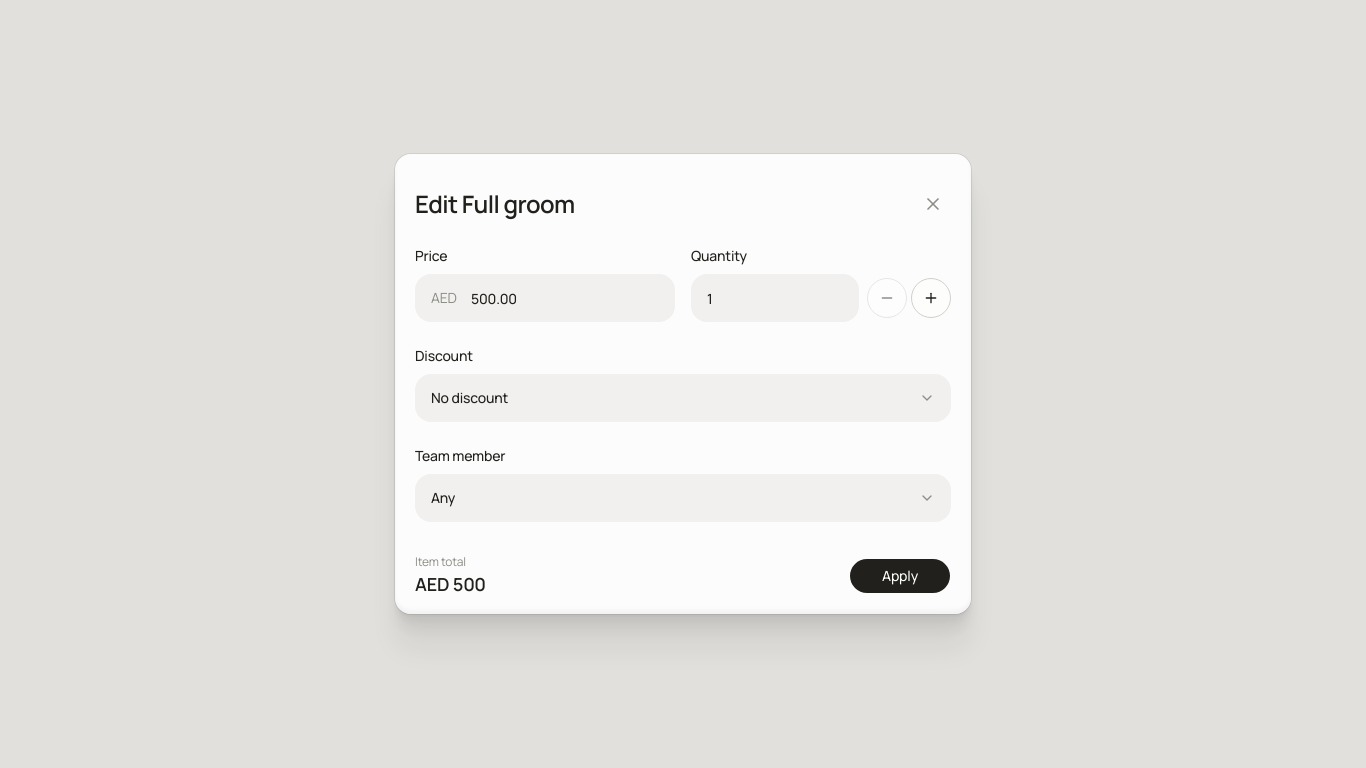
Scenario: one promotion per line, as the built till does › locks the select once one is picked, and the x takes it off
Click the dropdown labelled "discount". click: (470, 398)
box: x1=415 y1=374 x2=951 y2=422
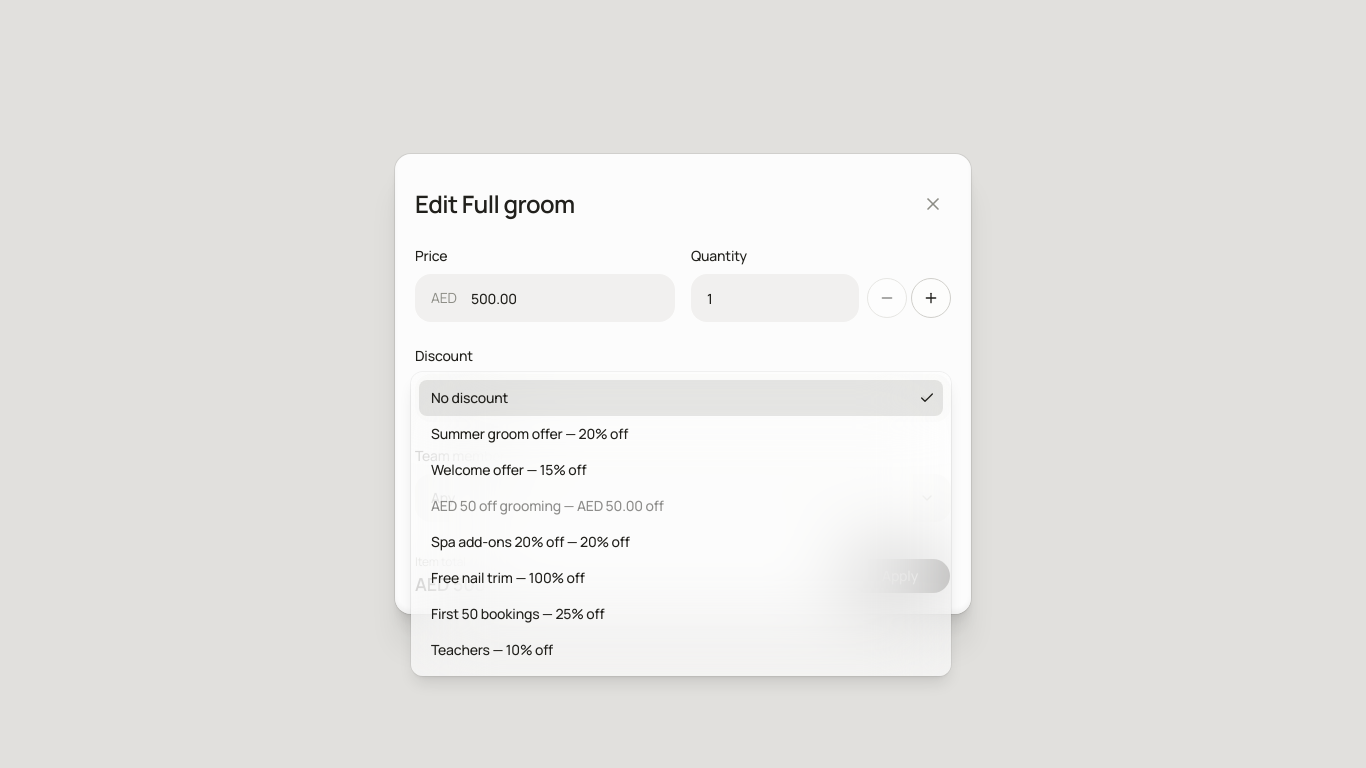
Click the option "Summer groom offer — 20% off". click: (530, 434)
box: x1=431 y1=424 x2=628 y2=443
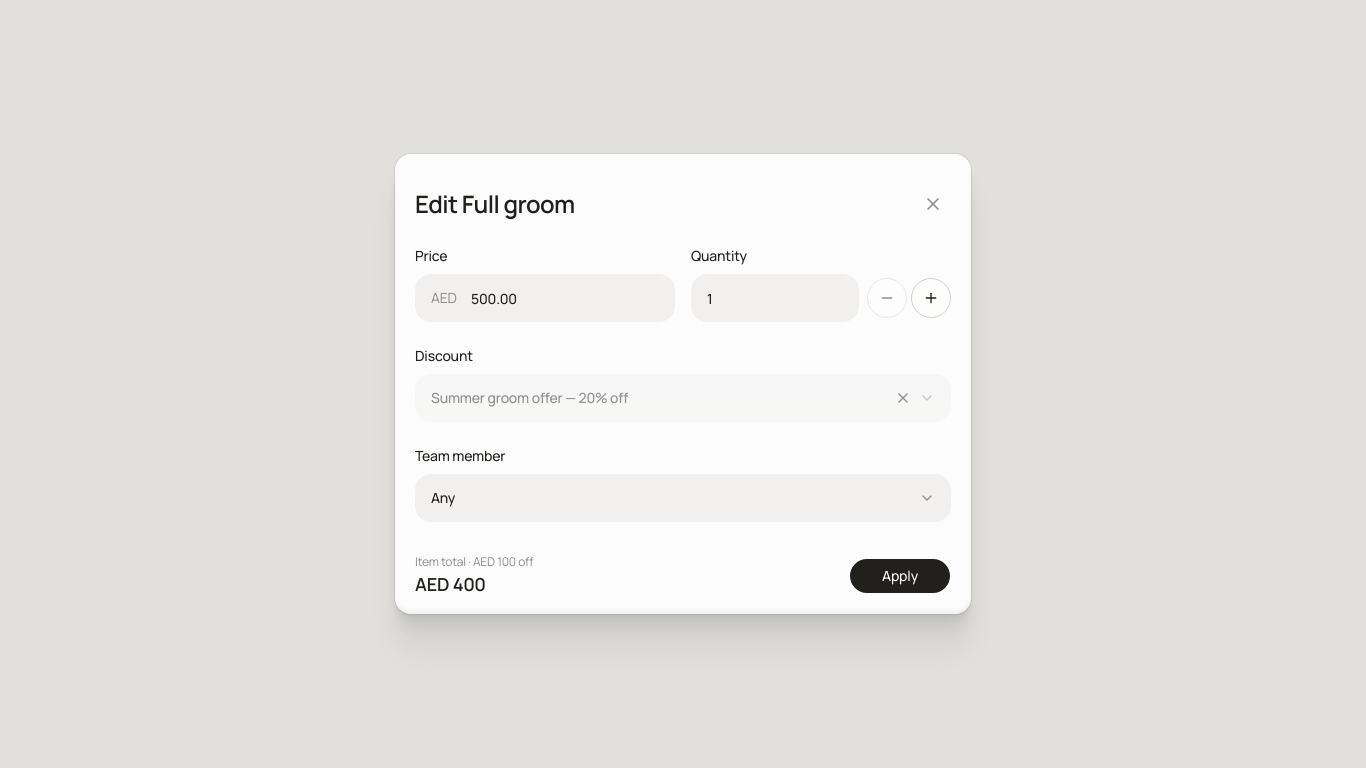
Now the dropdown named "Discount" is disabled, box x1=415 y1=374 x2=951 y2=422
Click the button named "Remove discount". click: (903, 398)
box: x1=891 y1=386 x2=915 y2=410
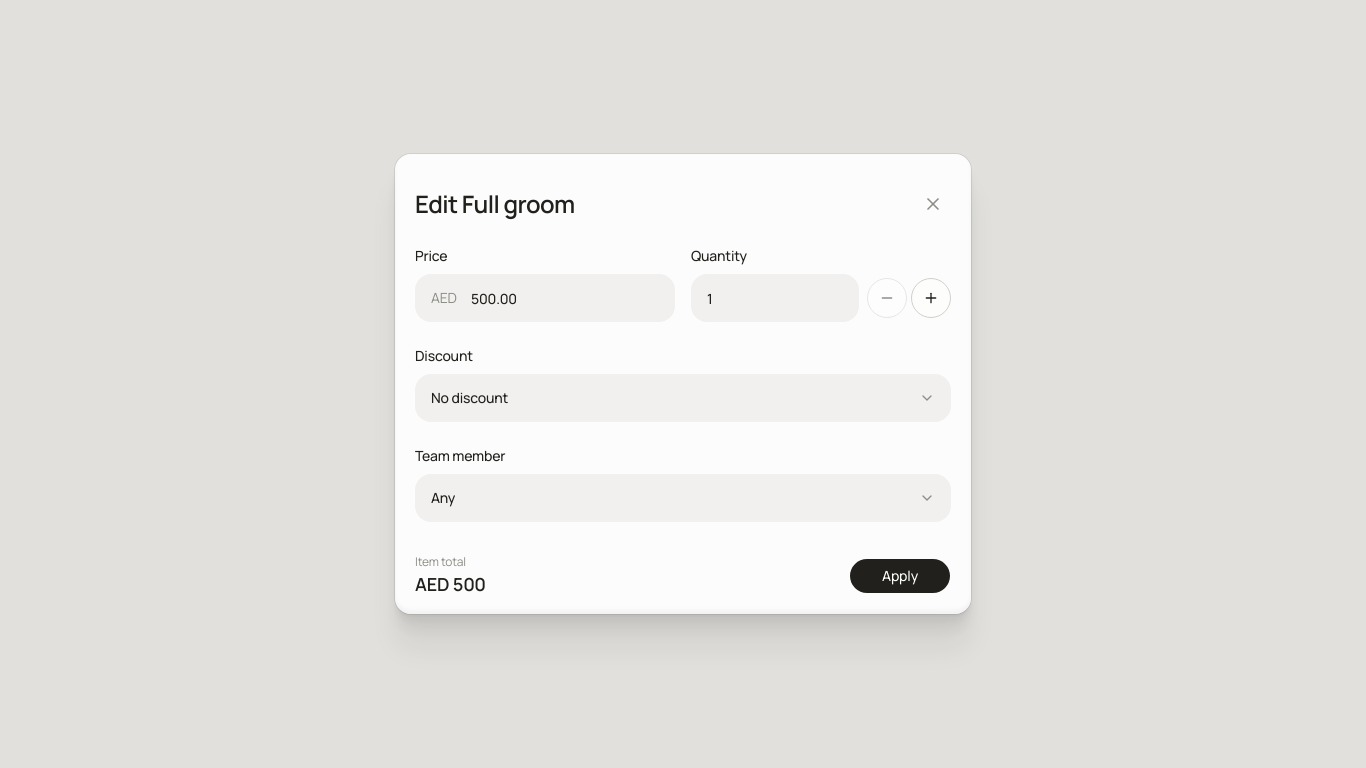
Now the dropdown labelled "discount" is enabled, box x1=415 y1=374 x2=951 y2=422
Now the text "AED 100 off" is gone
